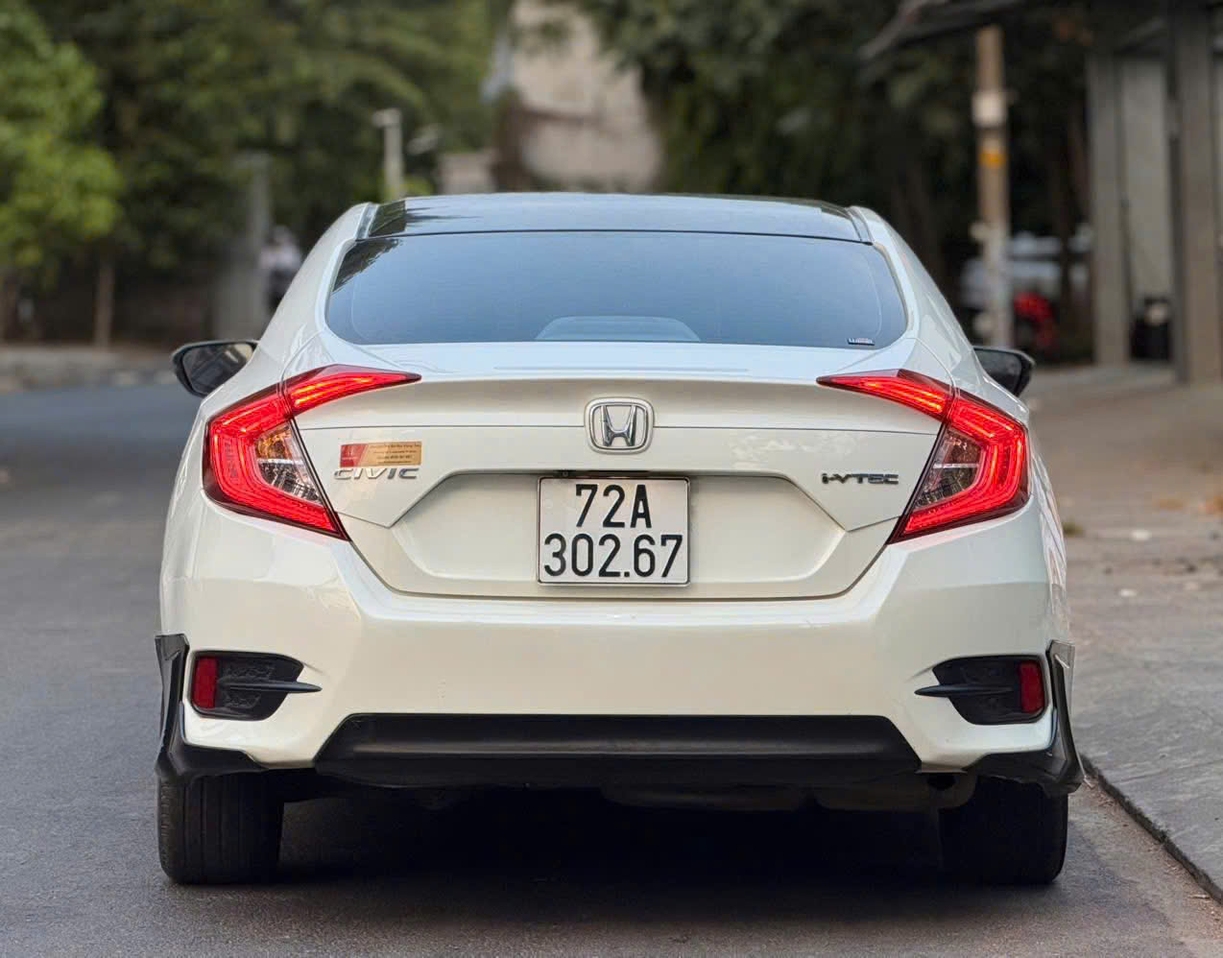Bien-so: (532, 473, 694, 593)
